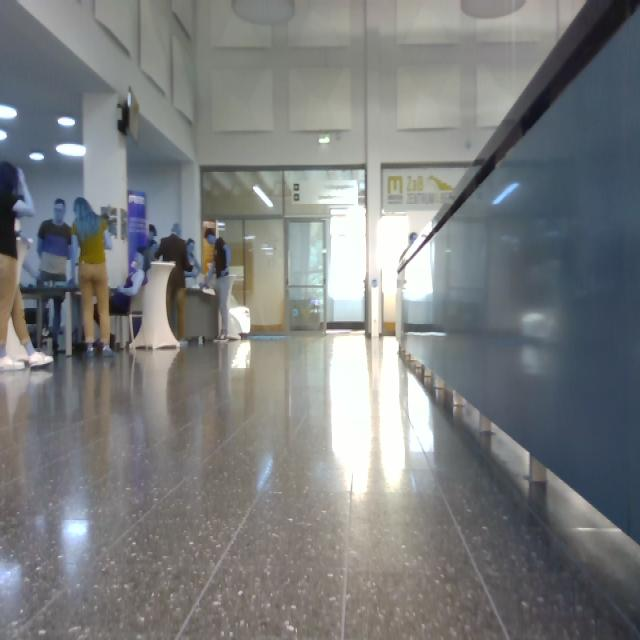door: (245, 220, 285, 332)
light bulb: (232, 1, 294, 25), (493, 182, 520, 205), (254, 185, 273, 208), (56, 144, 86, 157), (64, 521, 88, 537), (1, 105, 18, 120), (59, 117, 76, 126), (30, 152, 45, 161), (1, 129, 7, 141)
person: (1, 161, 54, 372), (71, 197, 117, 356), (37, 198, 72, 353), (155, 222, 195, 340), (204, 229, 232, 340)
staircase: (400, 1, 640, 632)
tiled floor: (1, 336, 640, 640)
